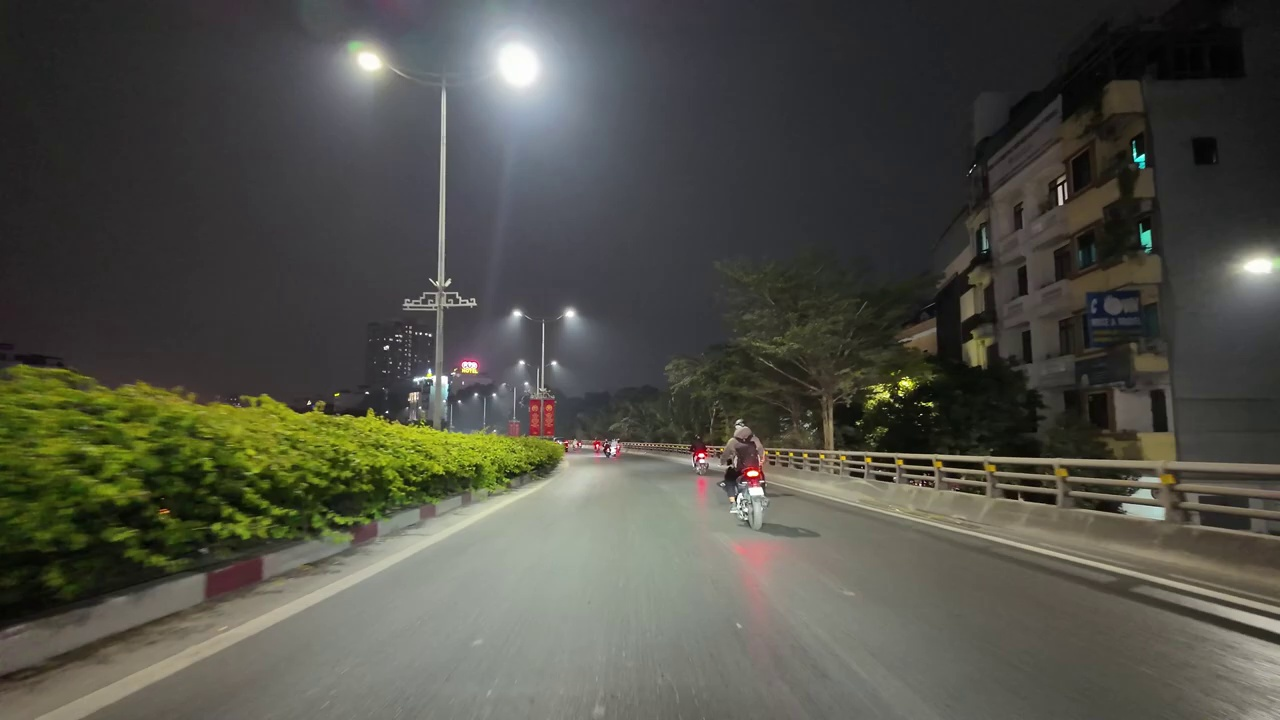acesa: (496, 44, 539, 89), (1232, 249, 1279, 286), (350, 43, 390, 80), (559, 305, 586, 335), (501, 305, 526, 332)
